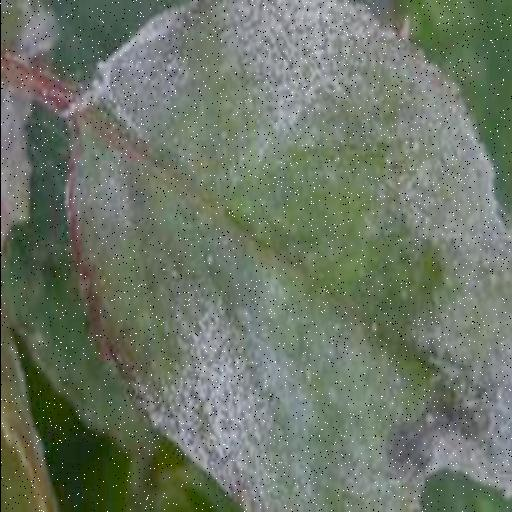powdery_mildew: (66, 0, 512, 512)
